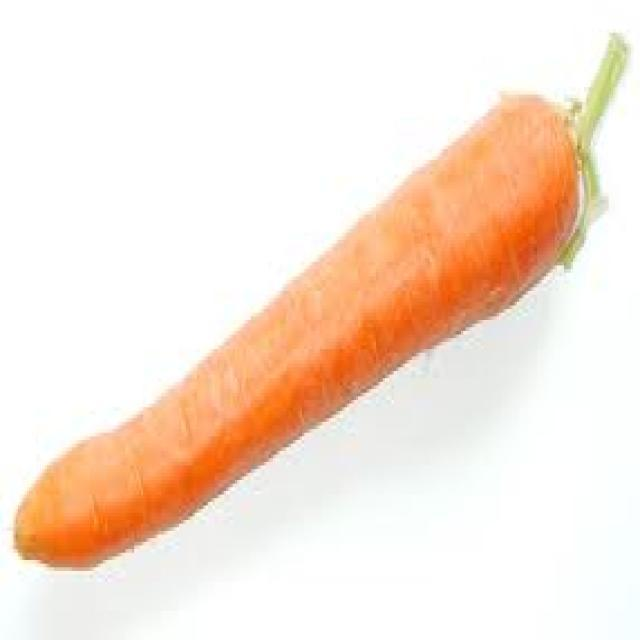Carrot: (4, 18, 636, 593)
